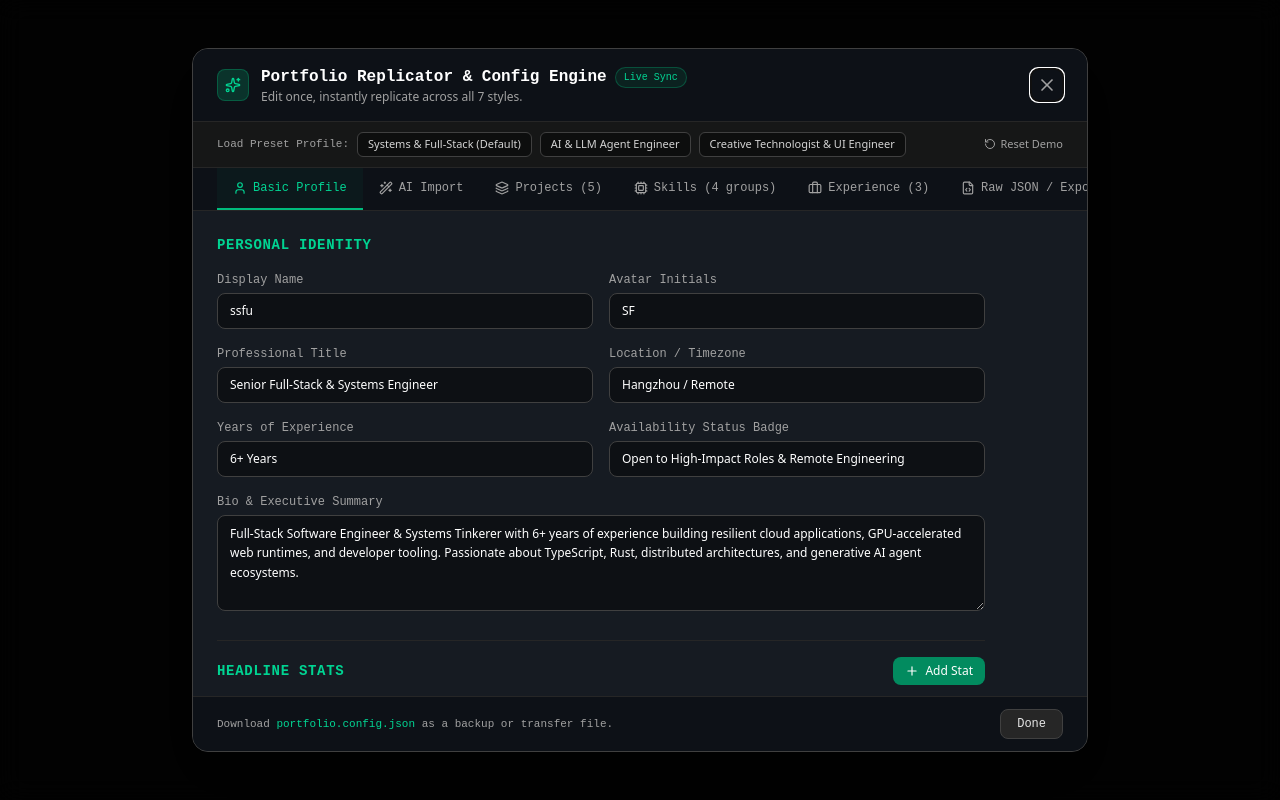
ConfigCustomizerModal — AI Import tab › exposes the endpoint, key and résumé inputs
This screenshot has width=1280, height=800.
Click the button "AI Import". click: (421, 189)
box: [363,168,479,210]
(page scrolled)
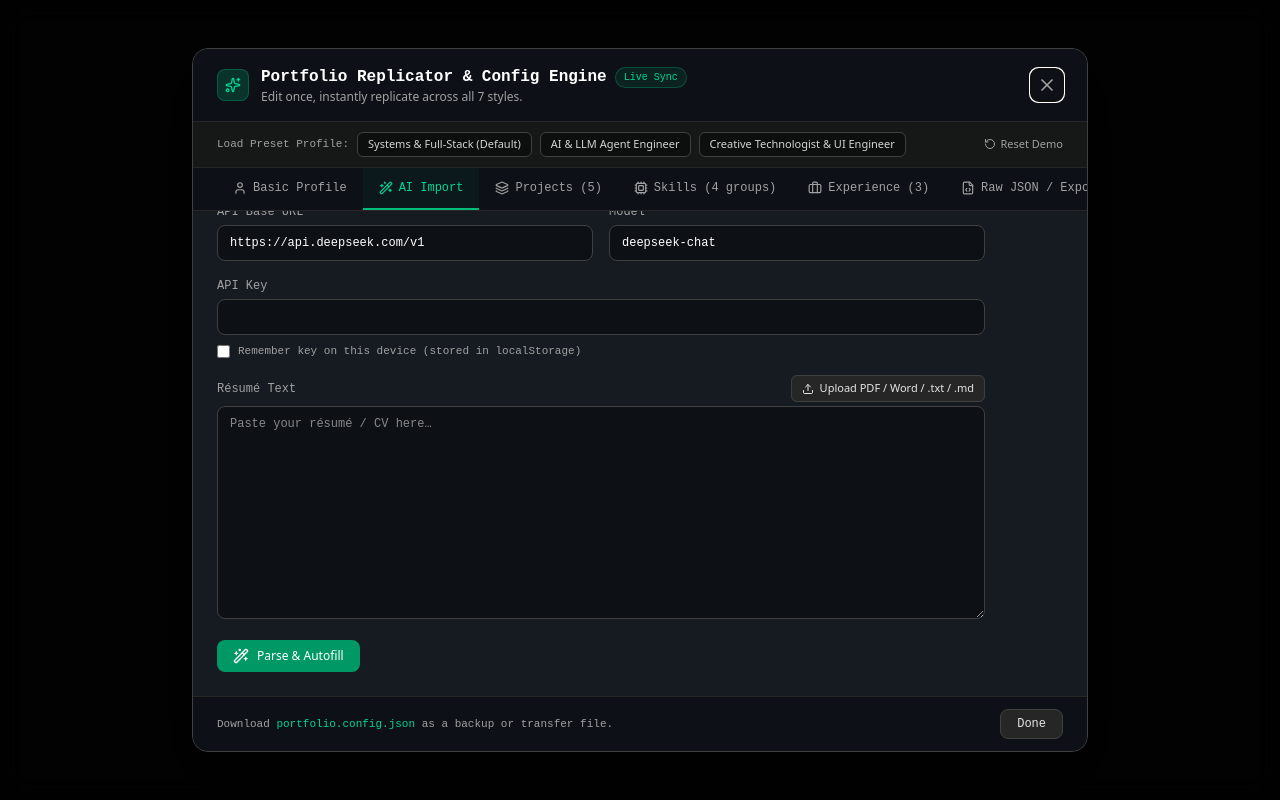
Check: the field labelled "API Base URL" is shown, box [217,225,593,261]
Check: the field labelled "Model" is shown, box [609,225,985,261]
Check: the password field labelled "API Key" is shown, box [217,299,985,335]
